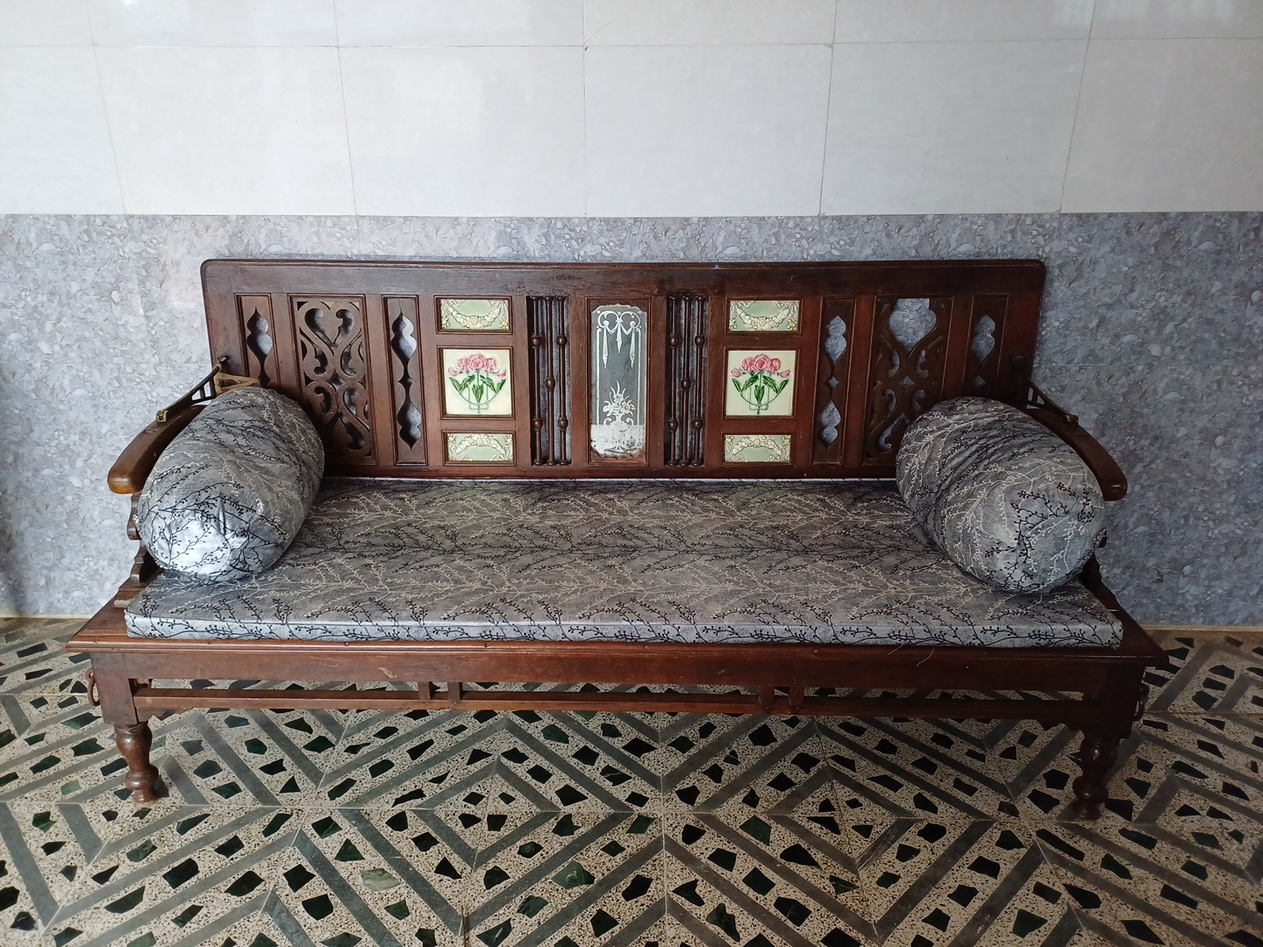sofa: (65, 260, 1169, 818)
